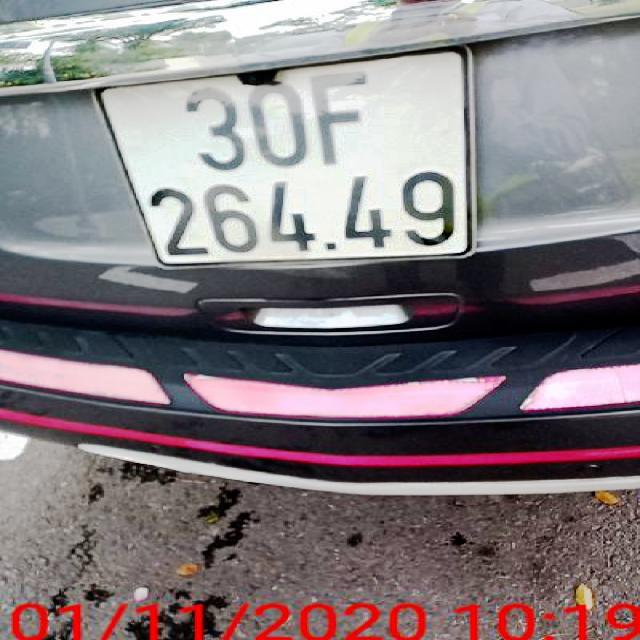license_plate: (103, 50, 476, 267)
